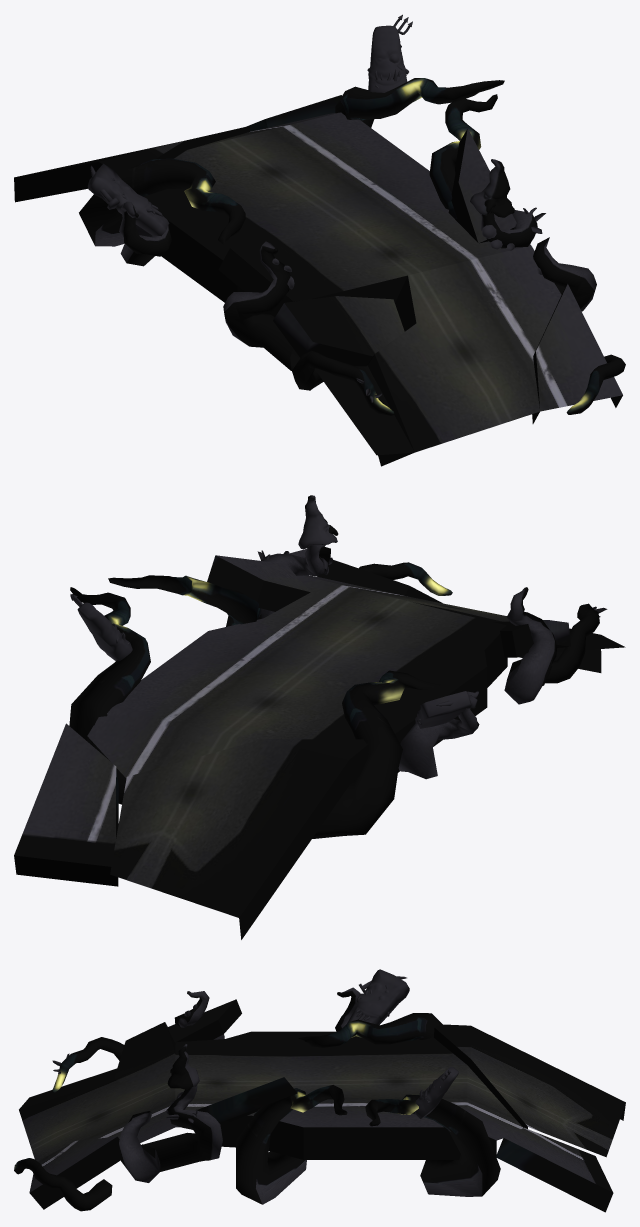
Rendered from modelBridge(2).fbx.
The picture shows the model from 3 angles, top to bottom: view 1: azimuth 30°, elevation 25°; view 2: azimuth 150°, elevation 25°; view 3: azimuth 270°, elevation 25°; orthographic projection. The views are drawn at different scales.
Parts seen in each view (by area): view 1: modelBridge; view 2: modelBridge; view 3: modelBridge.
Boxes of the visible parts, left/top/right/bottom form: modelBridge: left=14, top=14, right=625, bottom=466; modelBridge: left=14, top=495, right=625, bottom=939; modelBridge: left=14, top=969, right=625, bottom=1212.
Size of the model in its own units: 1029 by 518 by 1677.
